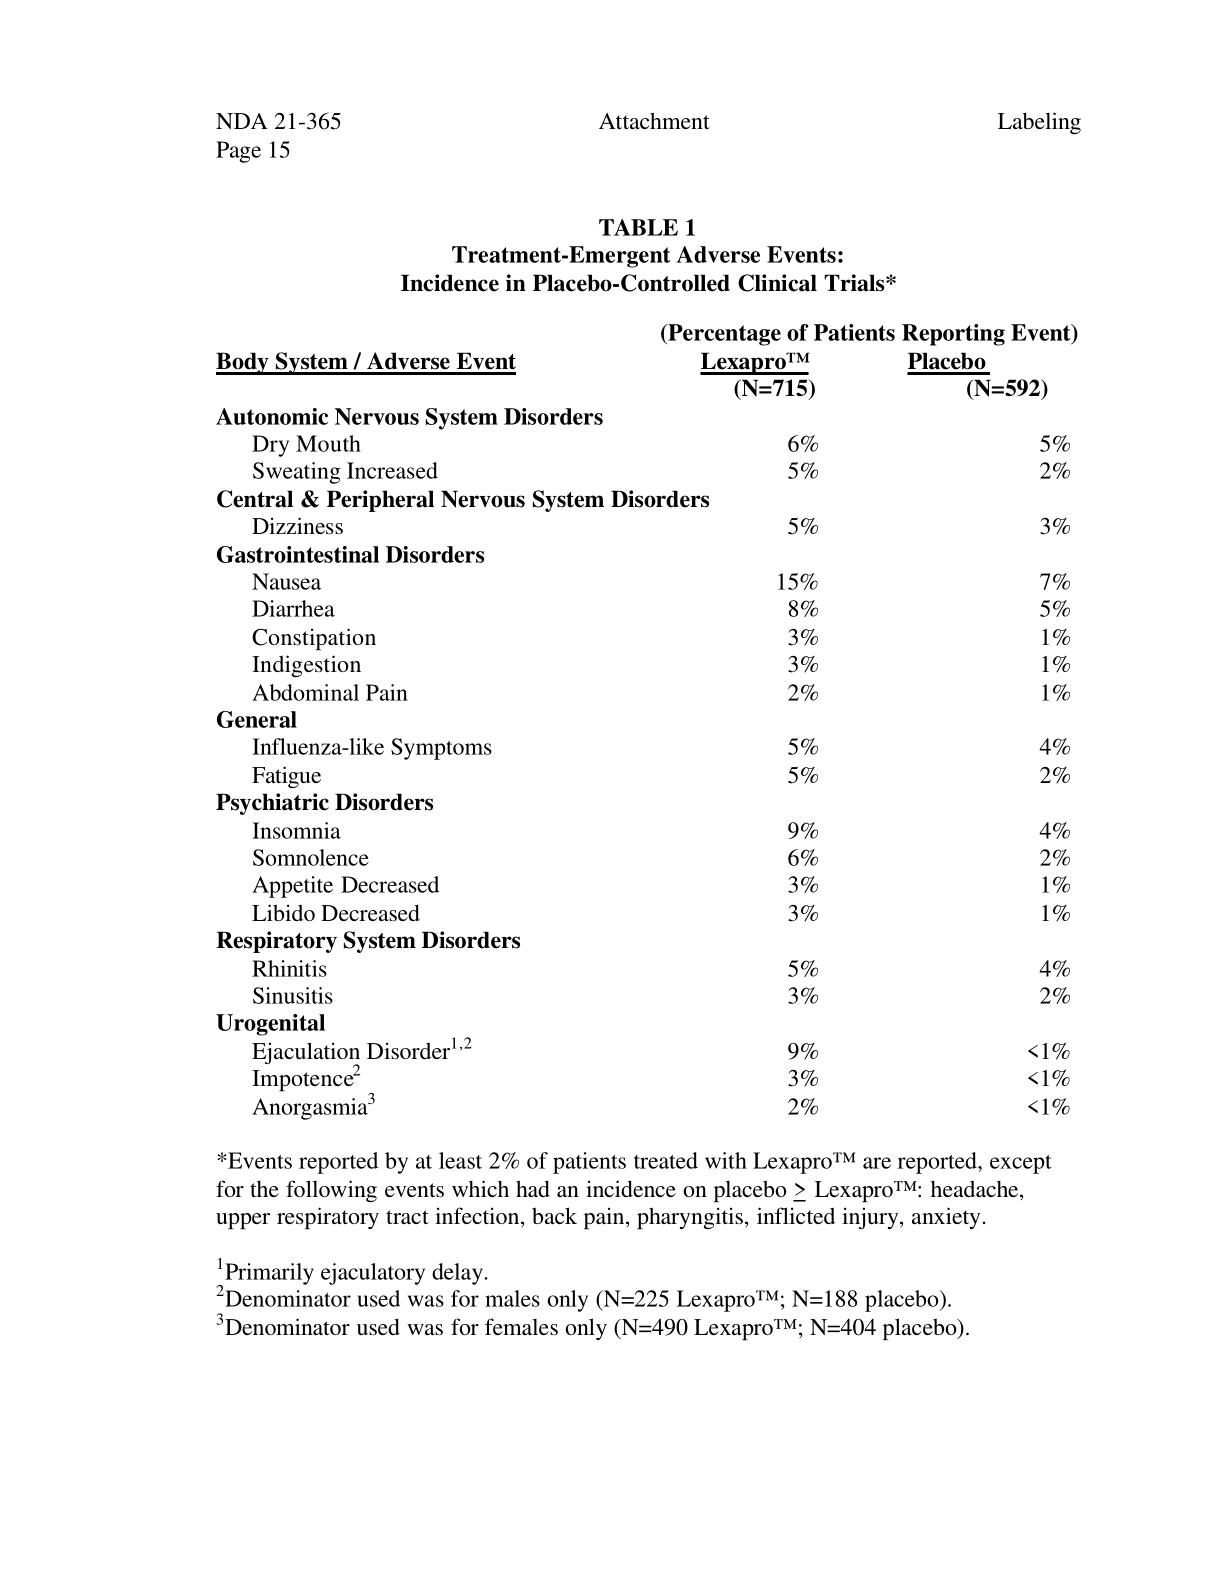nolines: (215, 319, 1080, 1121)
